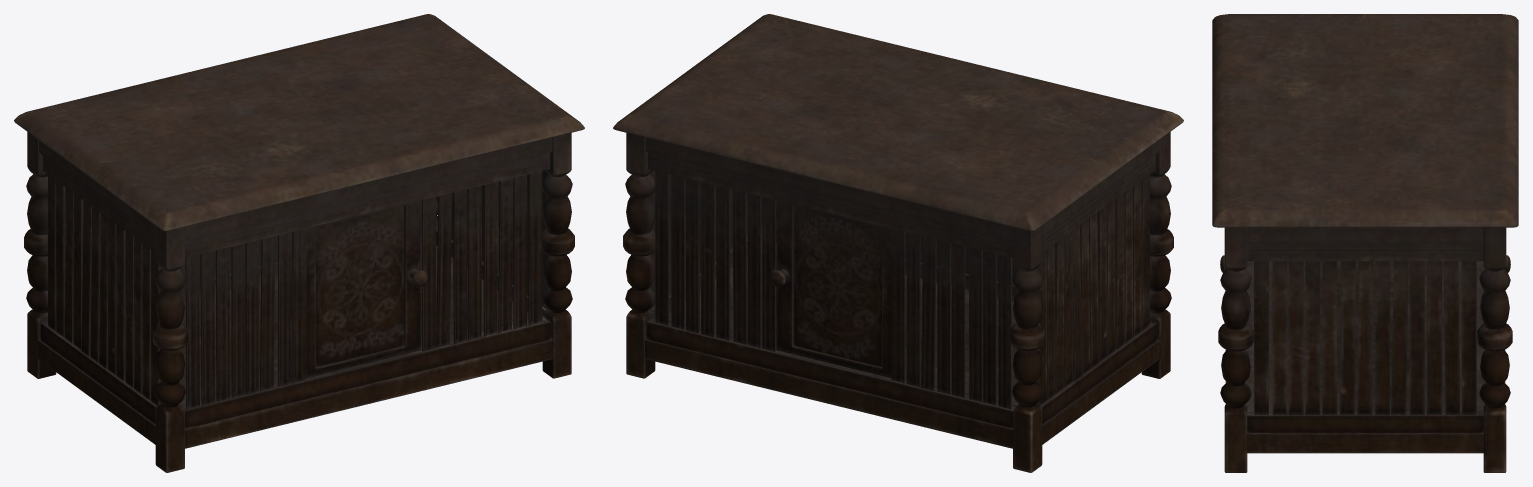
Rendered from gallinera_table.glb.
3 renders of one model, left to right at view 1: azimuth 30°, elevation 25°; view 2: azimuth 150°, elevation 25°; view 3: azimuth 270°, elevation 25°, orthographic.
Visible parts, largest first — view 1: gallinera_table; view 2: gallinera_table; view 3: gallinera_table.
Boxes of the visible parts, box(x1,y1,x2,y2) form: gallinera_table: box(14, 14, 584, 472); gallinera_table: box(613, 14, 1183, 472); gallinera_table: box(1212, 14, 1518, 472).
Bounding box in the file's own units: 0.8301 × 0.4878 × 0.5183.
Materials: 1 (1 with a texture image).
